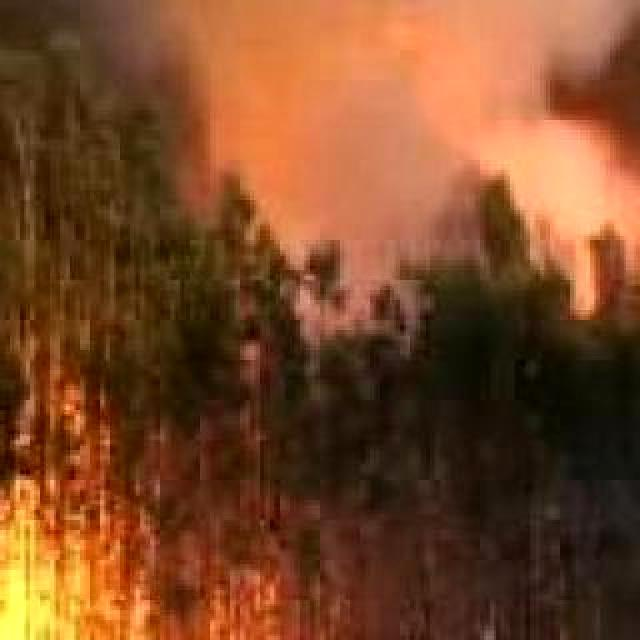fire: (0, 486, 334, 640)
